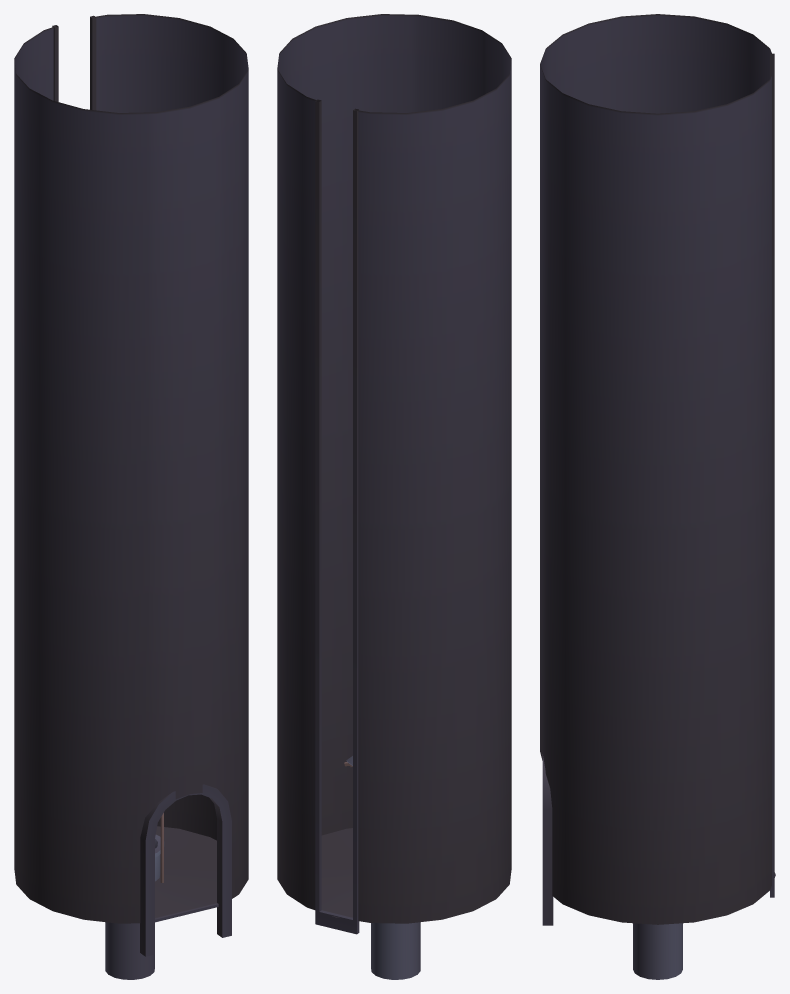
Rendered from Well.fbx.
3 views of the same model, side by side, from view 1: azimuth 30°, elevation 25°; view 2: azimuth 150°, elevation 25°; view 3: azimuth 270°, elevation 25° (orthographic).
Visible parts, largest first — view 1: Well; view 2: Well; view 3: Well.
Part boxes in pixels (<box>): Well: <box>14,14,248,979</box>; Well: <box>277,14,511,979</box>; Well: <box>540,14,775,979</box>.
Bounding box in the file's own units: 7.18 × 30.46 × 7.18.
